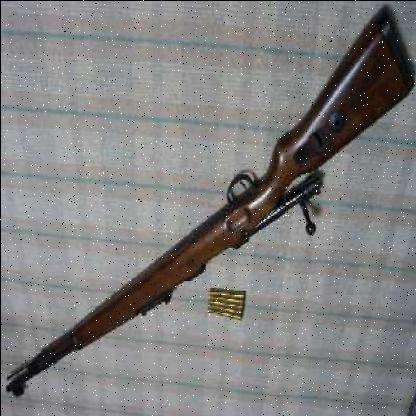rifle: (3, 12, 413, 406)
